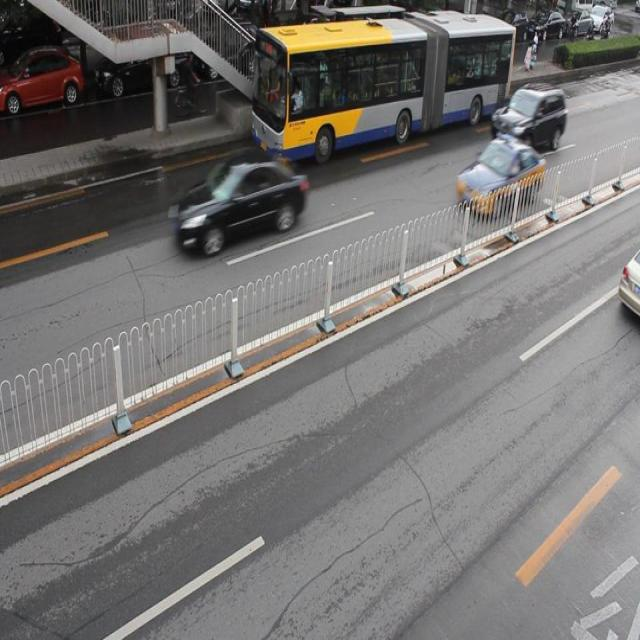car: (172, 150, 307, 254), (457, 135, 544, 215), (96, 34, 188, 95), (0, 47, 84, 113), (197, 17, 264, 79), (277, 17, 344, 70), (616, 245, 640, 319)
truck: (490, 81, 566, 151)
van: (253, 9, 513, 163)
